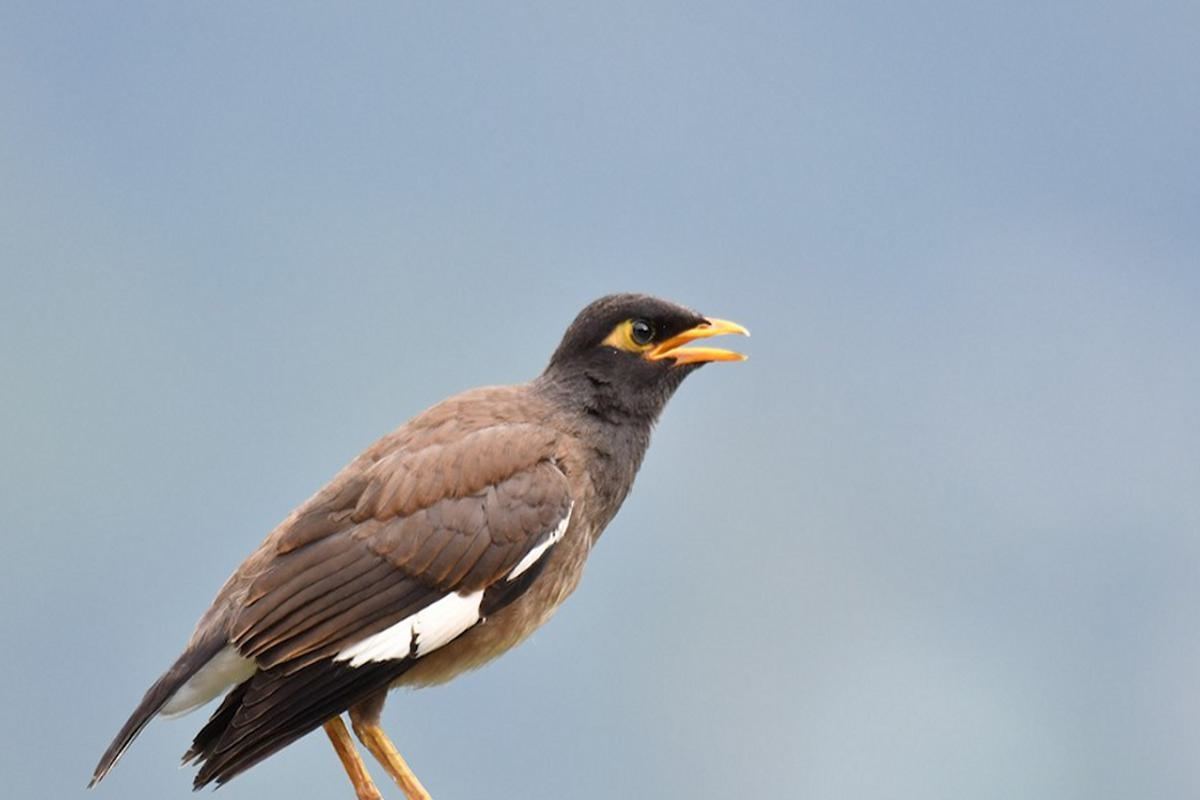myna: (157, 262, 765, 780)
